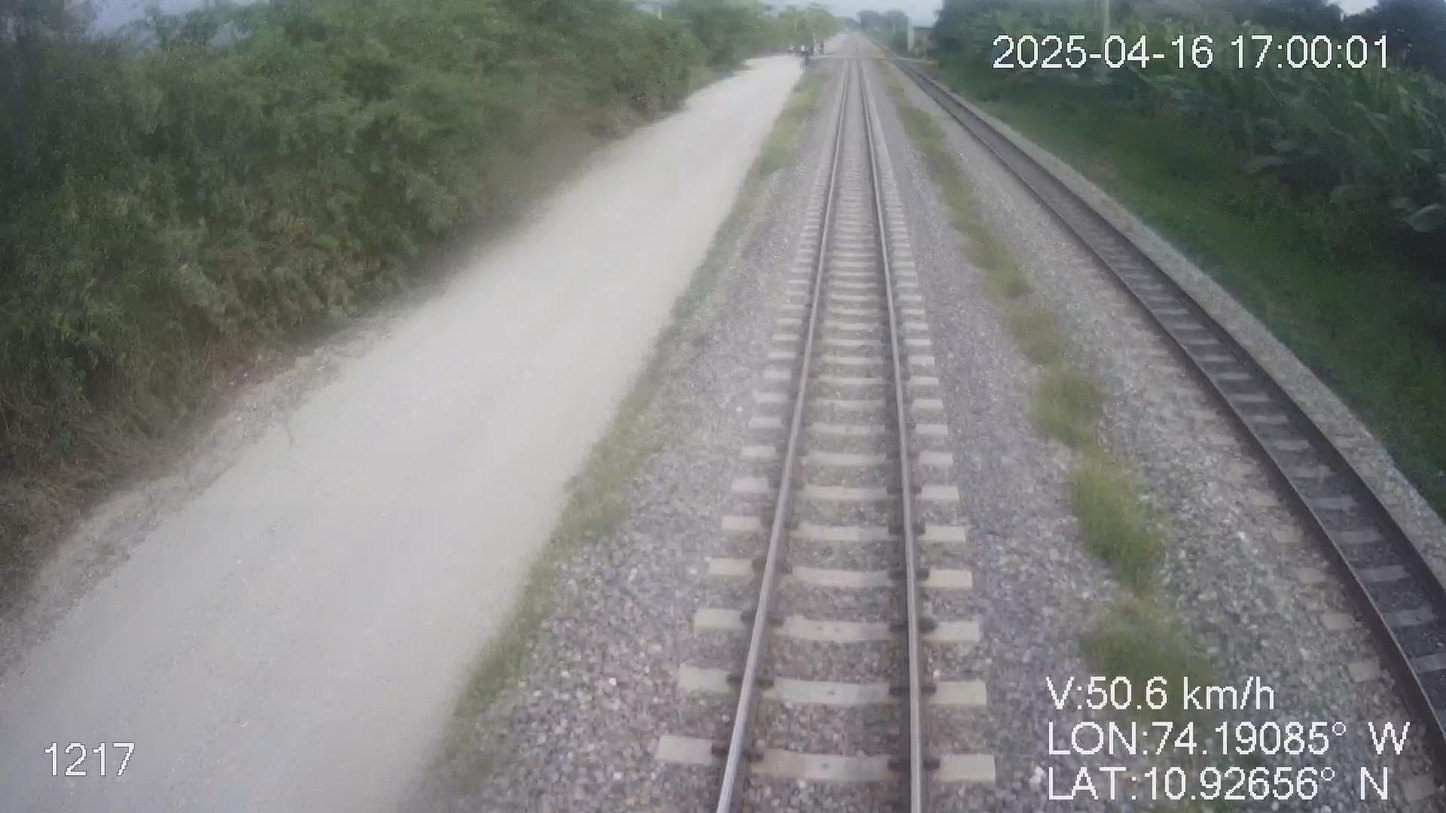Pasto: (0, 0, 829, 703), (913, 0, 1445, 526)
